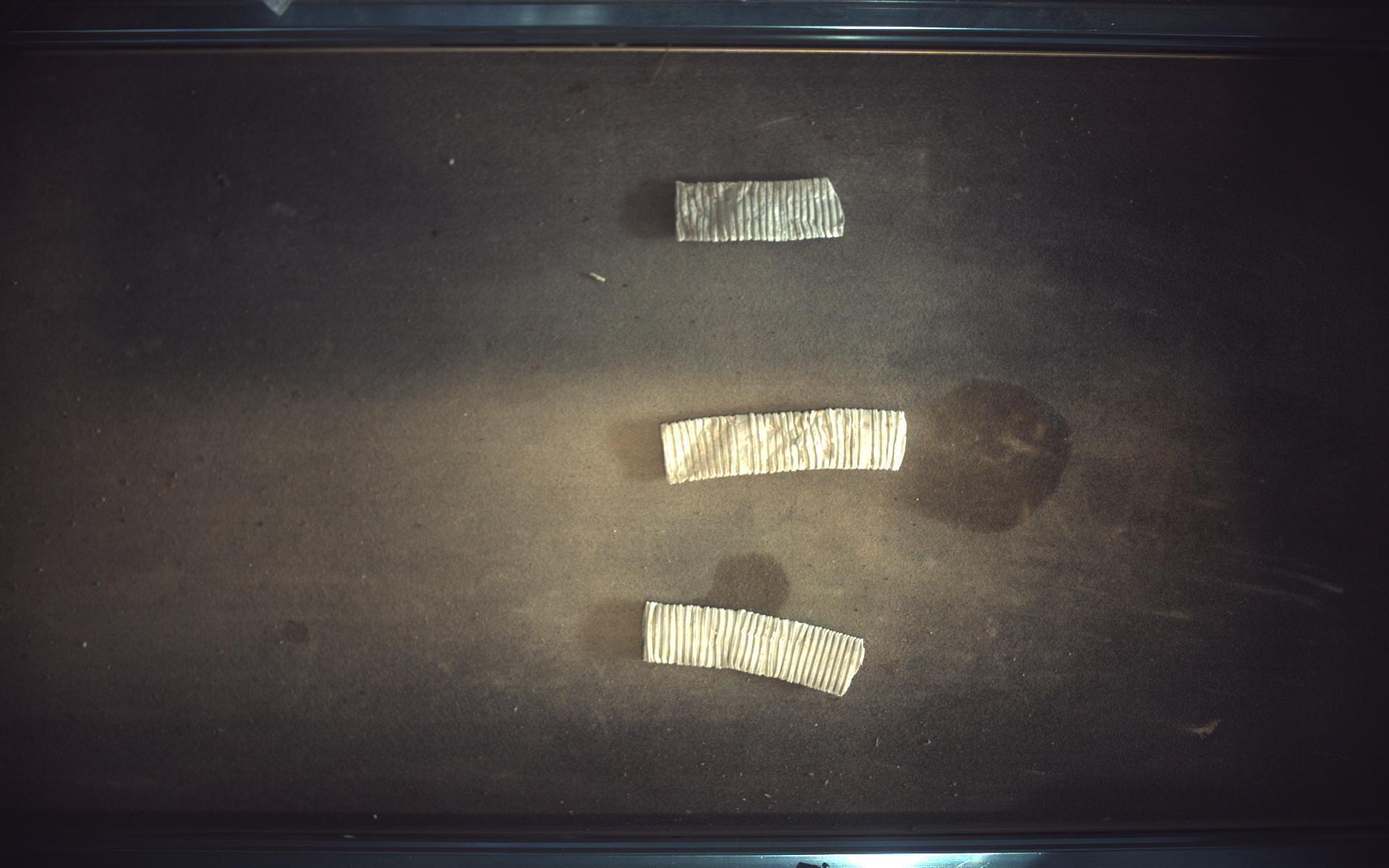pipes: (644, 602, 867, 697), (662, 408, 908, 485), (677, 177, 846, 241)
